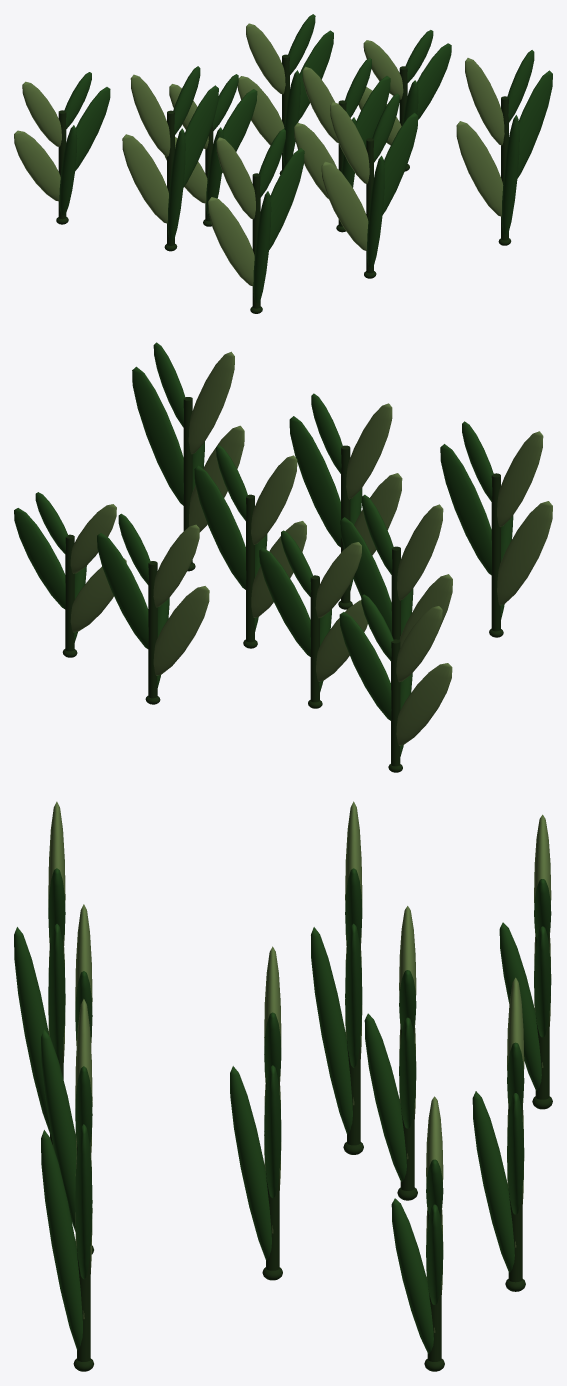
File: CMU3DRMCGrasse2.glb
3 renders of one model, top to bottom at view 1: azimuth 30°, elevation 25°; view 2: azimuth 150°, elevation 25°; view 3: azimuth 270°, elevation 25°, orthographic. The views are drawn at different scales.
Visible parts, largest first — view 1: blade clump 8 fork leaf 0, blade clump 6 fork leaf 0, blade clump 1 fork leaf 0, blade clump 7 fork leaf 0, blade clump 8 fork leaf 1, blade clump 8 fork leaf 2, blade clump 0 fork leaf 0, blade clump 1 fork leaf 1, blade clump 6 fork leaf 1, blade clump 7 fork leaf 1, blade clump 1 fork leaf 2, blade clump 6 fork leaf 2 (+37 smaller); view 2: blade clump 8 fork leaf 1, blade clump 6 fork leaf 1, blade clump 7 fork leaf 1, blade clump 6 fork leaf 0, blade clump 5 fork leaf 1, blade clump 3 fork leaf 1, blade clump 3 fork leaf 0, blade clump 0 fork leaf 1, blade clump 2 fork leaf 1, blade clump 0 fork leaf 0, blade clump 8 fork leaf 2, blade clump 4 fork leaf 1 (+33 smaller); view 3: blade clump 8 forward leaf, blade clump 1 forward leaf, blade clump 5 forward leaf, blade clump 3 forward leaf, blade clump 7 forward leaf, blade clump 2 forward leaf, blade clump 6 forward leaf, blade clump 4 forward leaf, blade clump 0 forward leaf, blade clump 8 fork leaf 1, blade clump 1 fork leaf 1, blade clump 6 fork leaf 1 (+30 smaller).
Boxes of the visible parts, x1,y1,x2,y2 form: blade clump 8 fork leaf 0: [456, 121, 503, 216]; blade clump 6 fork leaf 0: [208, 197, 254, 286]; blade clump 1 fork leaf 0: [122, 134, 168, 223]; blade clump 7 fork leaf 0: [321, 161, 368, 250]; blade clump 8 fork leaf 1: [517, 70, 552, 178]; blade clump 8 fork leaf 2: [465, 58, 504, 145]; blade clump 0 fork leaf 0: [14, 130, 60, 201]; blade clump 1 fork leaf 1: [183, 85, 218, 187]; blade clump 6 fork leaf 1: [269, 148, 304, 249]; blade clump 7 fork leaf 1: [382, 113, 417, 214]; blade clump 1 fork leaf 2: [130, 74, 170, 156]; blade clump 6 fork leaf 2: [216, 137, 255, 219]; blade clump 8 fork leaf 1: [132, 366, 183, 505]; blade clump 6 fork leaf 1: [440, 444, 491, 575]; blade clump 7 fork leaf 1: [289, 416, 341, 547]; blade clump 6 fork leaf 0: [497, 501, 552, 605]; blade clump 5 fork leaf 1: [194, 465, 246, 589]; blade clump 3 fork leaf 1: [97, 533, 148, 648]; blade clump 3 fork leaf 0: [153, 586, 209, 675]; blade clump 0 fork leaf 1: [339, 612, 391, 720]; blade clump 2 fork leaf 1: [259, 548, 310, 656]; blade clump 0 fork leaf 0: [396, 663, 452, 745]; blade clump 8 fork leaf 2: [188, 351, 234, 453]; blade clump 4 fork leaf 1: [14, 508, 65, 609]; blade clump 8 forward leaf: [41, 1130, 82, 1350]; blade clump 1 forward leaf: [311, 927, 352, 1134]; blade clump 5 forward leaf: [230, 1066, 271, 1260]; blade clump 3 forward leaf: [472, 1091, 514, 1272]; blade clump 7 forward leaf: [41, 1029, 76, 1231]; blade clump 2 forward leaf: [364, 1013, 406, 1181]; blade clump 6 forward leaf: [14, 927, 50, 1134]; blade clump 4 forward leaf: [391, 1198, 433, 1353]; blade clump 0 forward leaf: [499, 922, 541, 1090]; blade clump 8 fork leaf 1: [75, 1124, 92, 1278]; blade clump 1 fork leaf 1: [345, 923, 362, 1067]; blade clump 6 fork leaf 1: [48, 924, 65, 1064].
Size of the model in its own units: 0.9424 by 0.435 by 0.6242.
